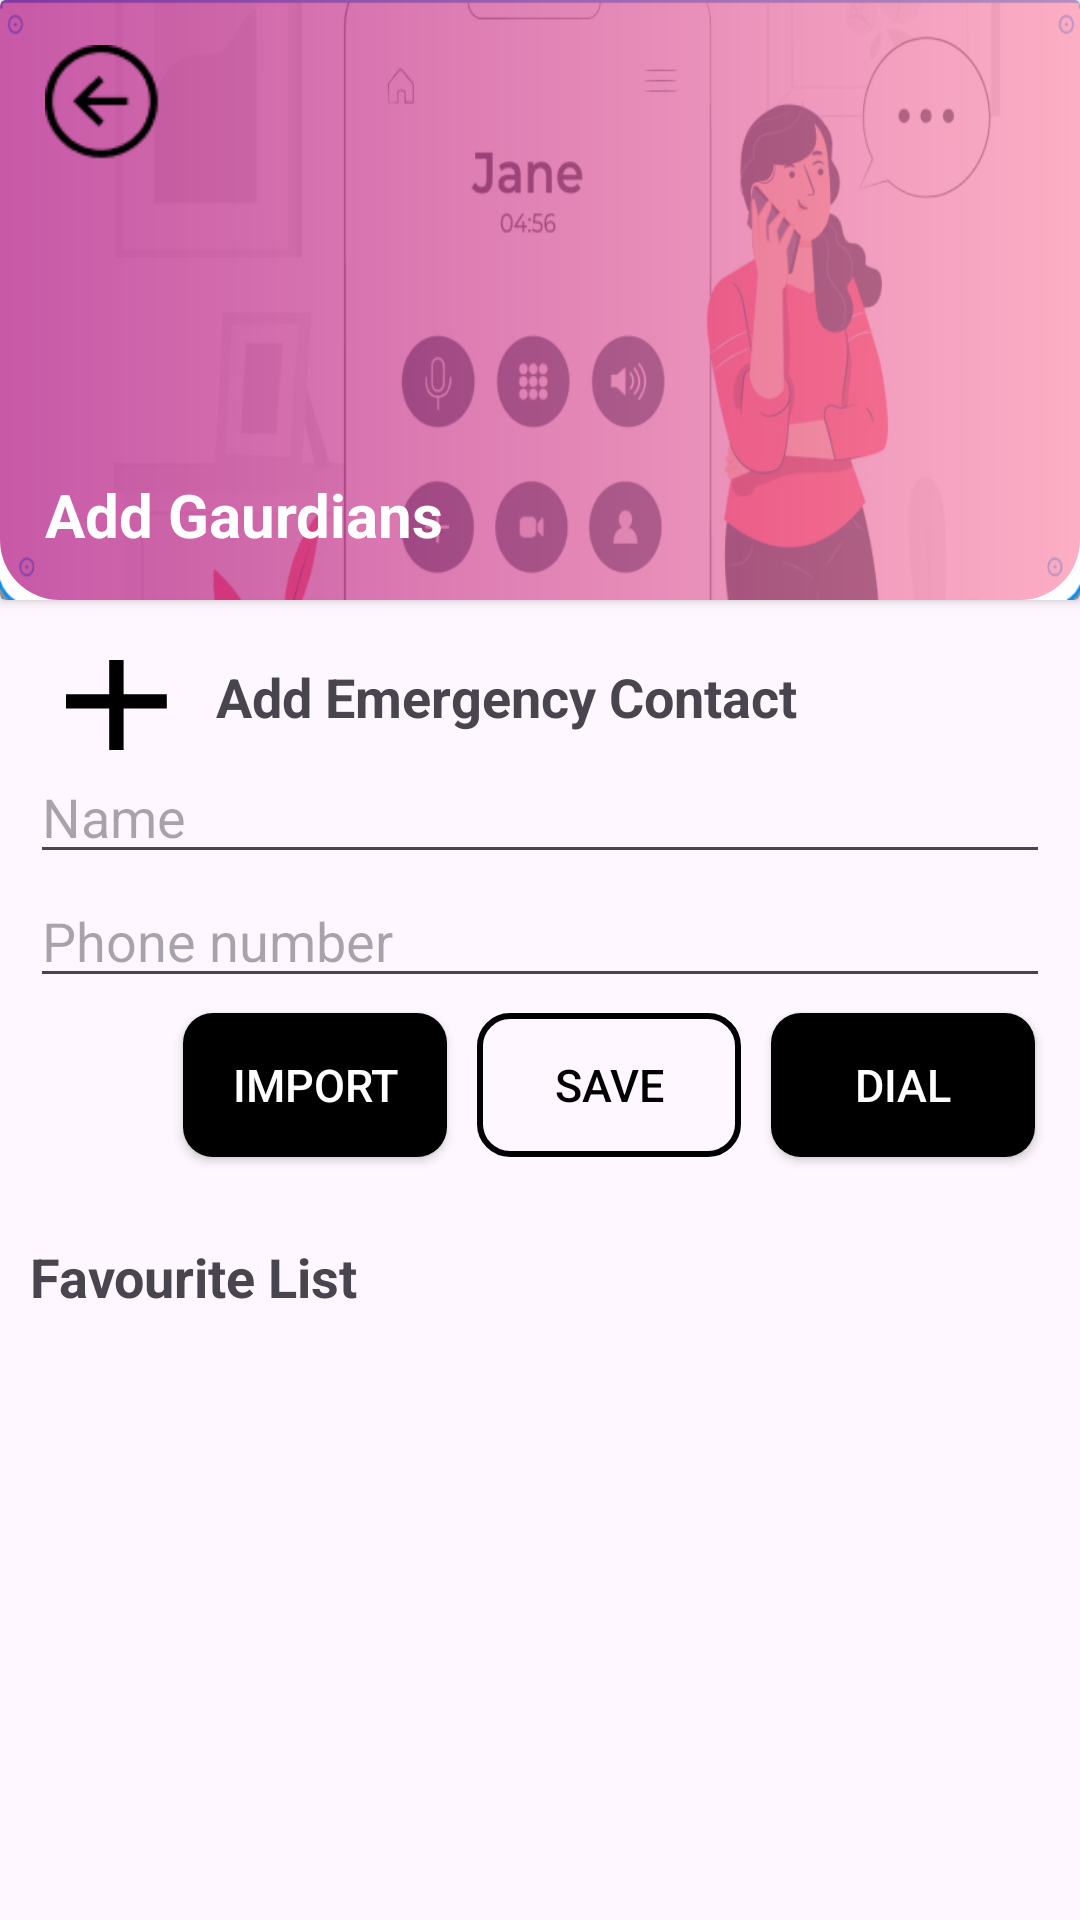

Icon click points for this 1080w x 1920h phone screenshot, format (x=x, y=y):
back: (x=102, y=102)
